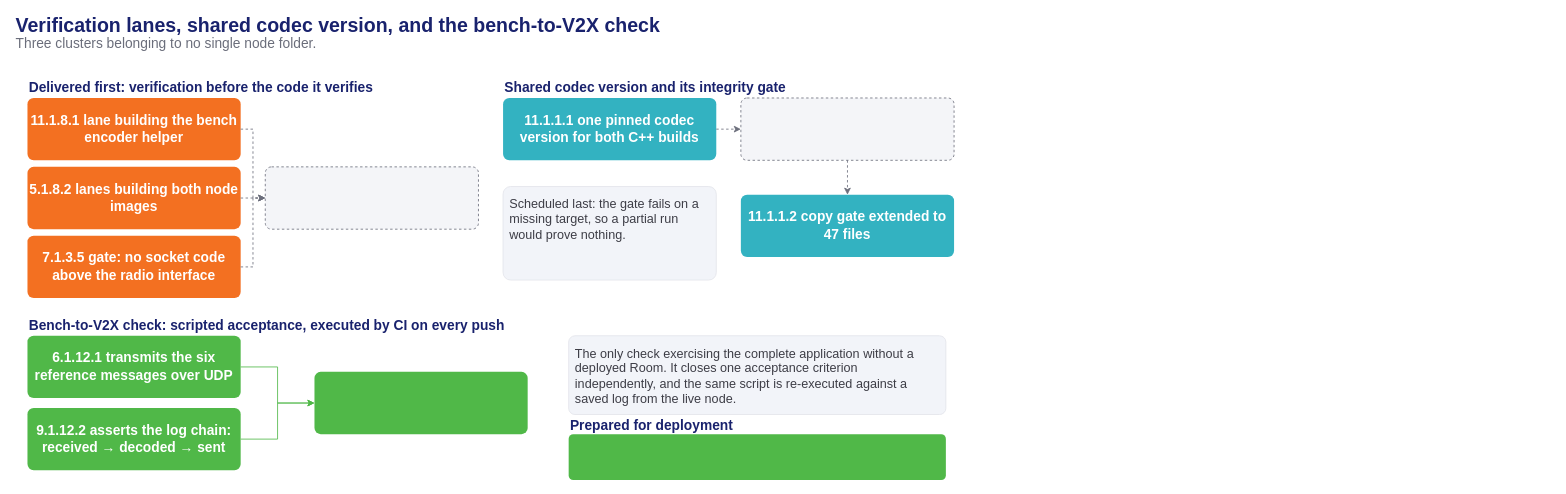
Image size: 1566x494. Some labels were removed from this diagram. Here are the shapes that lost their labels. From the top down, the box of each, then its label:
(740, 97, 954, 160): 11.1.7.1 · 11.1.7.2 the copies it guards
(264, 166, 478, 229): their consumers every subtask delivered after them
(314, 371, 527, 434): 9.1.12.3 CI lane executing the application between them
(568, 434, 945, 480): 2.1.9.1 the ADA-side listener prints complete message bodies
